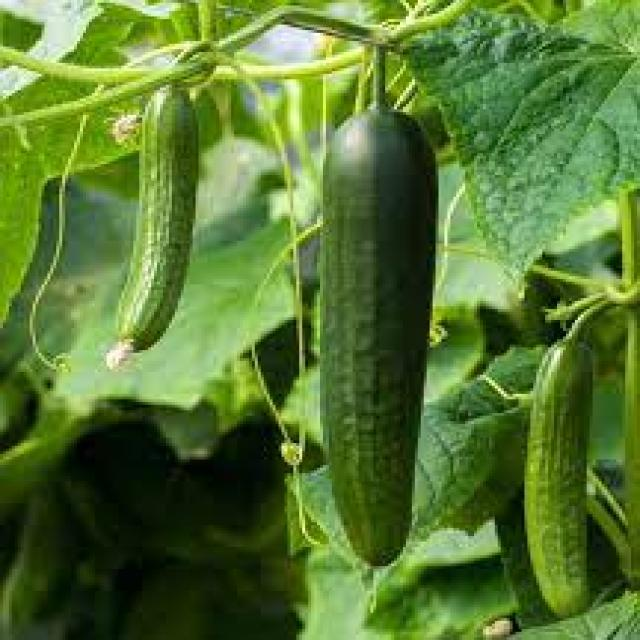cucumber: (318, 99, 440, 567), (111, 88, 199, 358), (522, 342, 600, 615)
